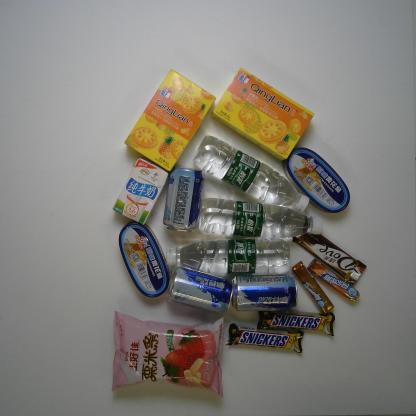Alcohol: (163, 264, 235, 317), (160, 164, 206, 236), (229, 270, 300, 314)
Candy: (305, 256, 362, 304), (290, 259, 336, 316)
Canned Food: (280, 145, 353, 215), (115, 218, 173, 300)
Chocolate: (291, 226, 369, 287), (223, 321, 307, 356), (253, 304, 338, 338)
Dessert: (208, 66, 317, 163), (122, 66, 218, 174)
Drink: (189, 132, 312, 214), (162, 234, 294, 280), (196, 194, 325, 241)
Milk: (111, 155, 172, 227)
Puffed Food: (105, 308, 229, 401)
